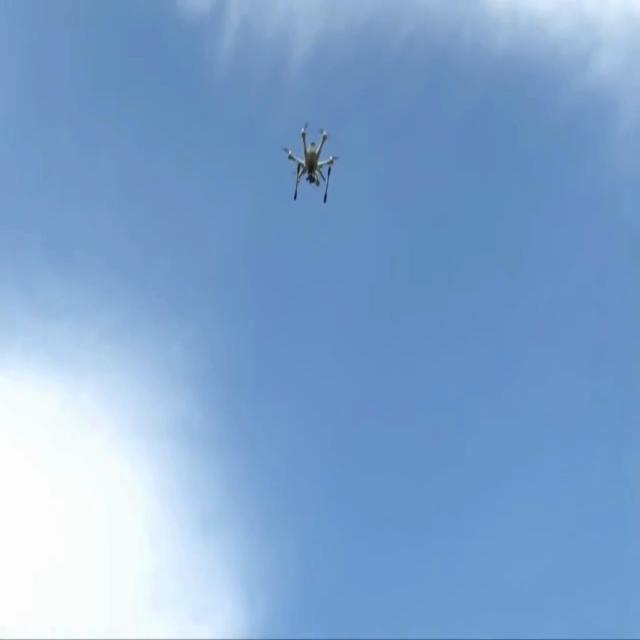drone: (281, 122, 339, 204)
